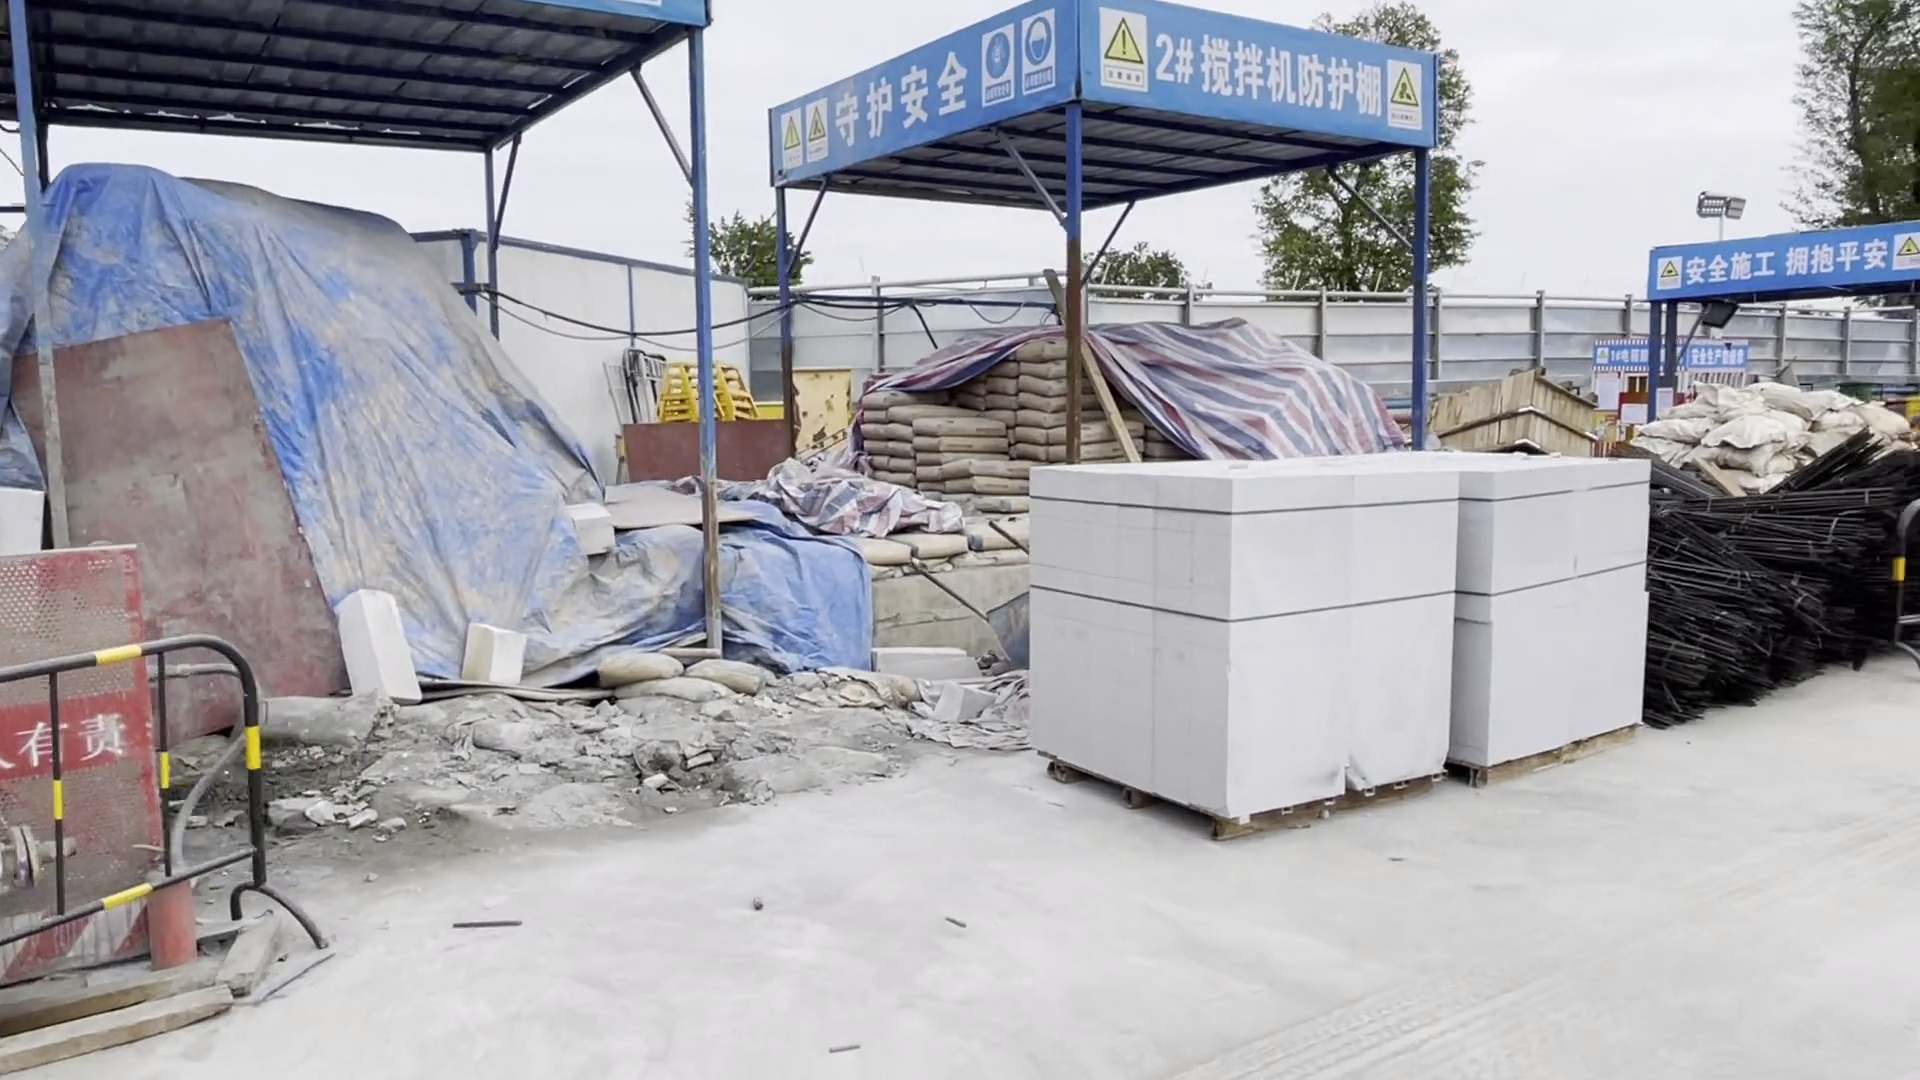brick: (1015, 460, 1465, 858), (1315, 444, 1662, 785)
ebox: (781, 361, 858, 455)
fence: (1, 526, 160, 895)
slogan: (808, 49, 973, 145), (1677, 237, 1892, 284)
